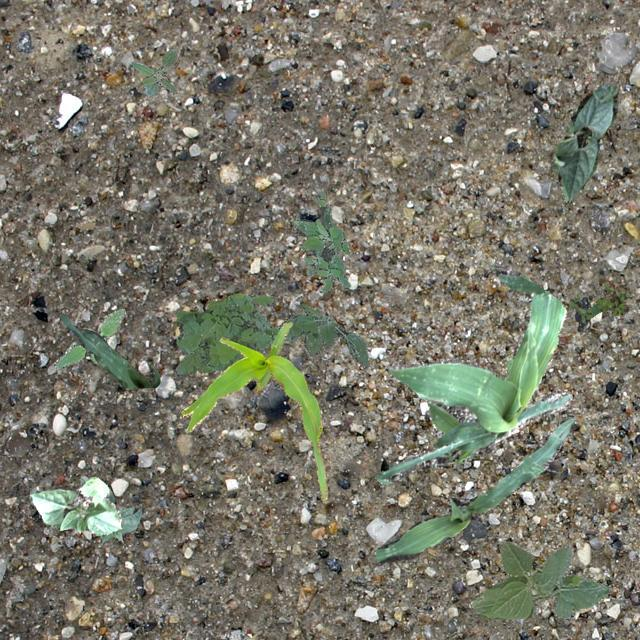crop: (374, 256, 570, 484), (374, 416, 574, 564), (180, 320, 326, 500), (470, 540, 608, 618), (58, 312, 158, 388), (552, 84, 616, 202), (29, 476, 120, 534), (80, 474, 142, 544)
weed: (174, 292, 306, 374), (290, 188, 350, 292), (282, 304, 368, 366), (52, 308, 124, 368), (128, 48, 176, 96), (568, 284, 628, 322)
